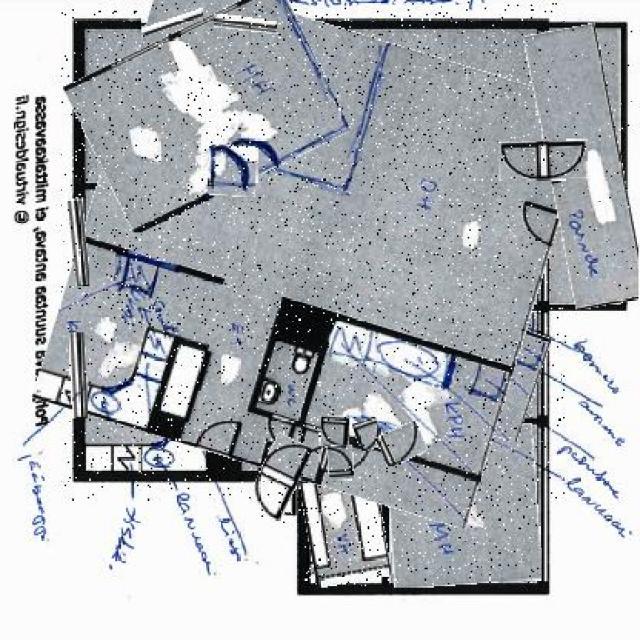door: (250, 435, 304, 523), (498, 140, 588, 180), (210, 146, 258, 197), (379, 425, 426, 463), (320, 417, 349, 448), (355, 417, 383, 449), (328, 446, 354, 480)
window: (70, 199, 88, 286), (71, 332, 86, 418), (142, 14, 204, 31), (215, 17, 280, 32)
zone: (60, 1, 568, 502), (75, 3, 340, 211), (537, 26, 634, 308), (353, 296, 544, 430), (388, 426, 538, 586), (303, 472, 388, 586), (301, 344, 354, 422)
